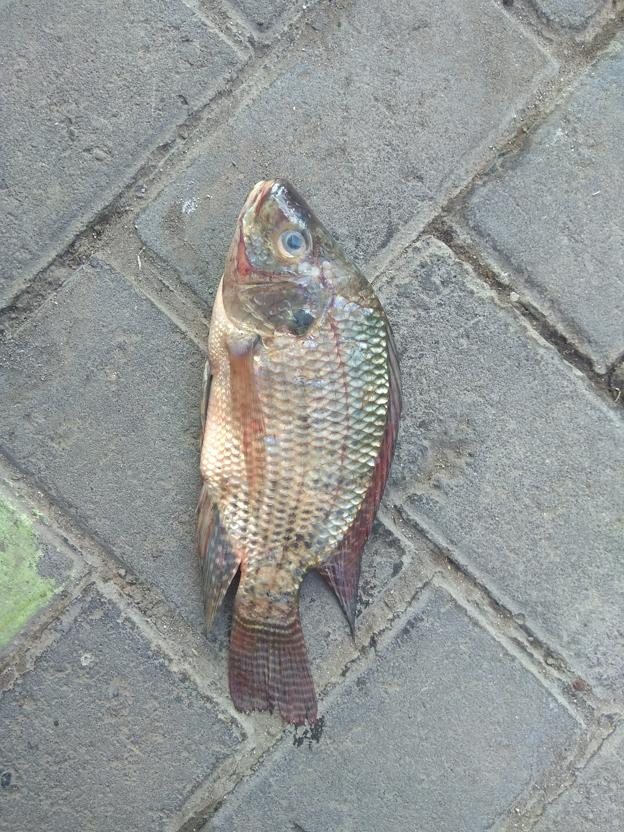Fish head: (212, 175, 372, 338)
Fish tail: (225, 608, 324, 730)
